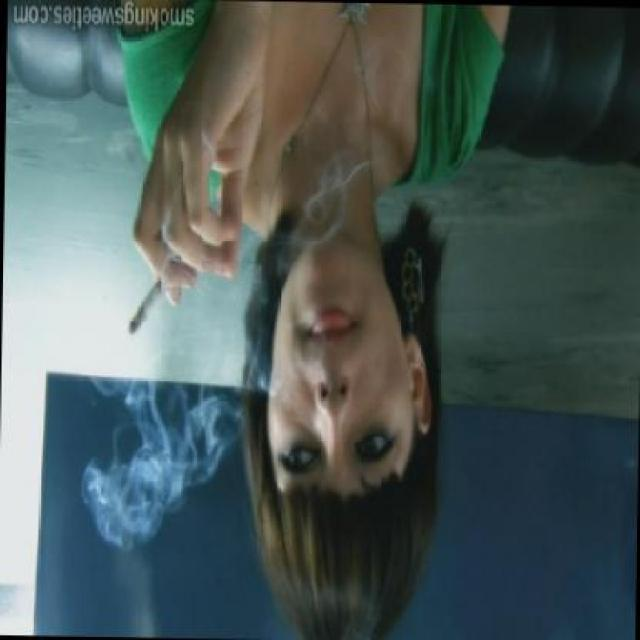cigarette: (122, 270, 168, 336)
